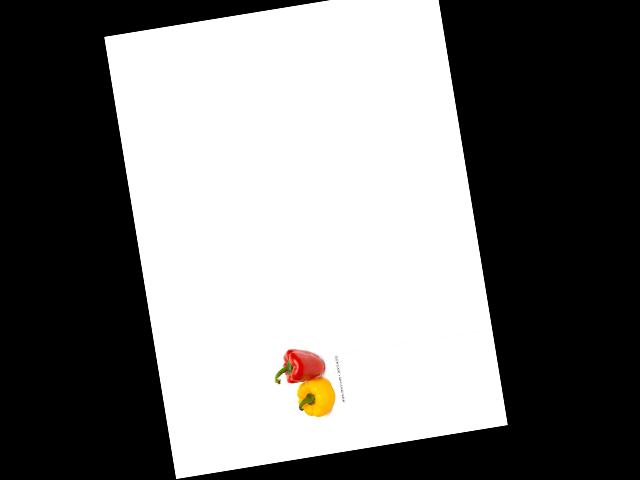bell_pepper: (291, 373, 341, 422)
